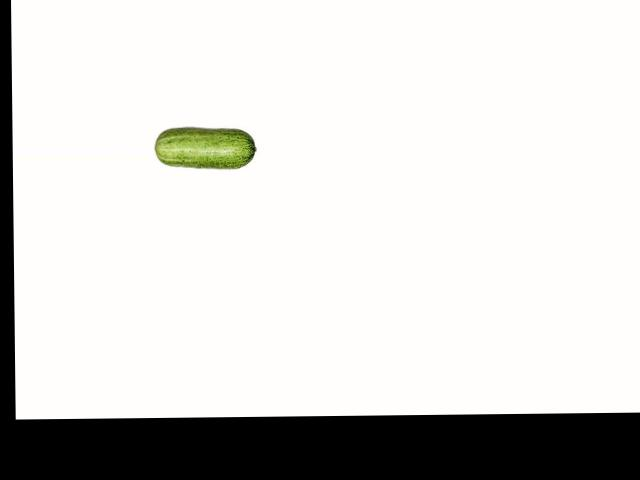cucumber: (154, 127, 257, 169)
